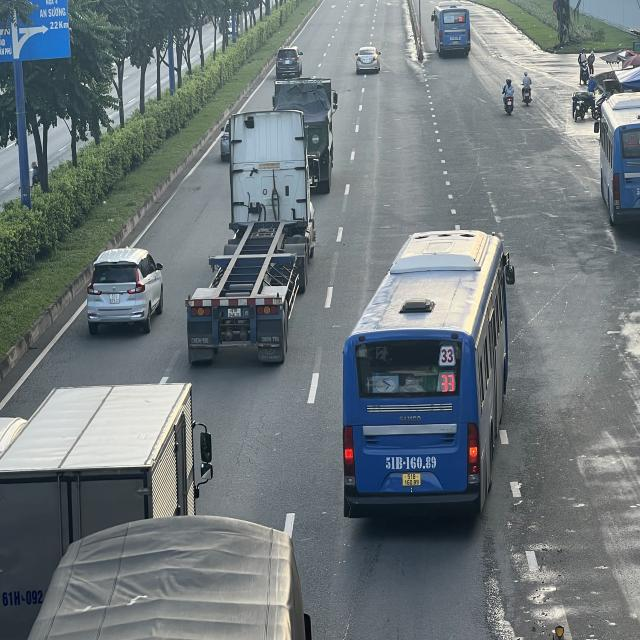car: (85, 245, 163, 328), (275, 47, 303, 81), (354, 47, 380, 75)
coach: (342, 233, 514, 523), (598, 92, 640, 228), (432, 2, 469, 56)
container: (186, 110, 317, 367), (300, 77, 336, 193)
truck: (4, 378, 215, 634), (11, 516, 311, 638)
